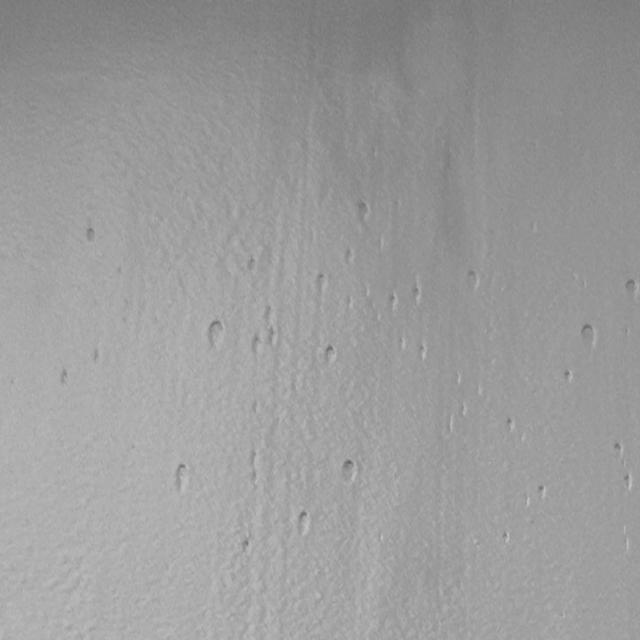pin holes: (204, 318, 228, 350), (578, 321, 600, 352), (172, 461, 192, 494), (339, 457, 361, 485), (464, 268, 484, 295), (294, 509, 312, 537), (355, 199, 374, 225), (56, 364, 76, 388), (310, 273, 328, 299), (320, 344, 339, 367), (243, 252, 260, 276), (623, 278, 639, 303), (239, 536, 257, 558), (410, 282, 426, 306), (387, 291, 403, 314), (84, 225, 100, 247), (342, 246, 358, 268), (252, 333, 266, 358), (621, 471, 636, 494), (417, 342, 432, 364), (612, 440, 626, 460), (91, 346, 104, 367), (504, 414, 518, 433), (563, 368, 577, 386), (252, 400, 264, 421), (267, 327, 279, 347), (536, 483, 550, 500), (445, 412, 453, 438), (501, 531, 513, 547), (250, 446, 259, 466), (460, 401, 468, 419), (252, 468, 258, 486), (456, 371, 462, 387)
